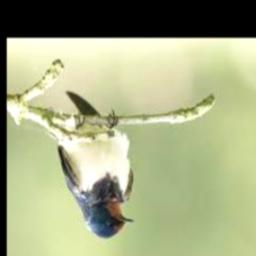Swallow: (59, 91, 135, 239)
